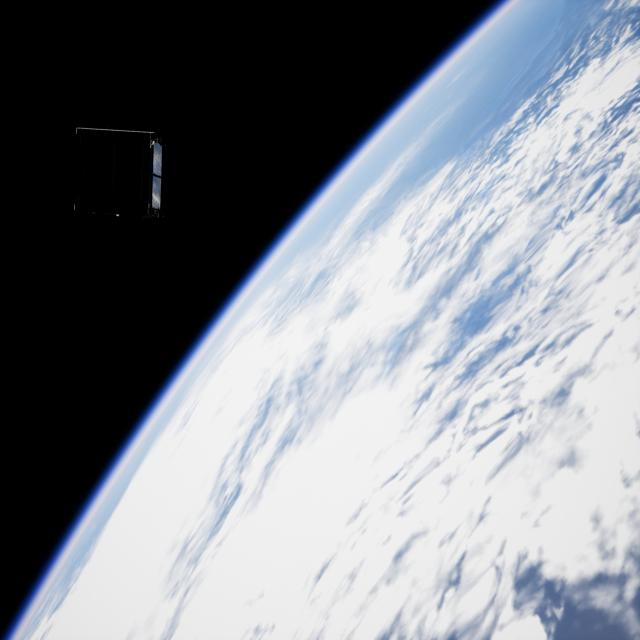medium_debris: (60, 115, 174, 238)
